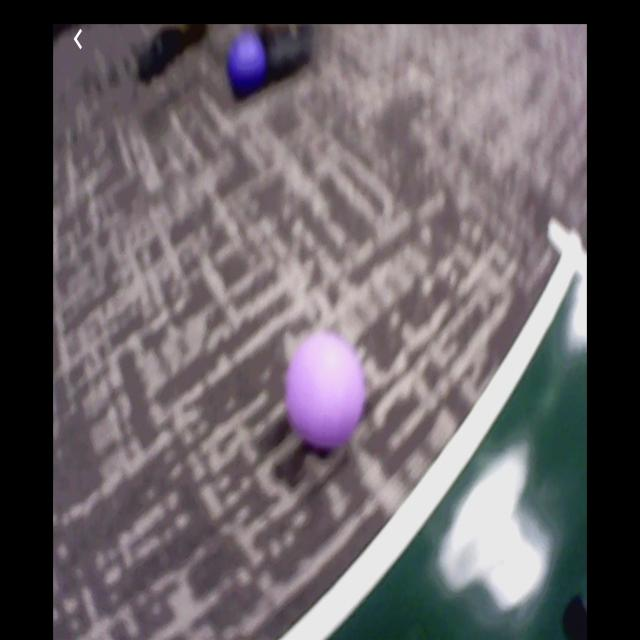ball: (287, 333, 363, 448), (228, 32, 267, 89)
